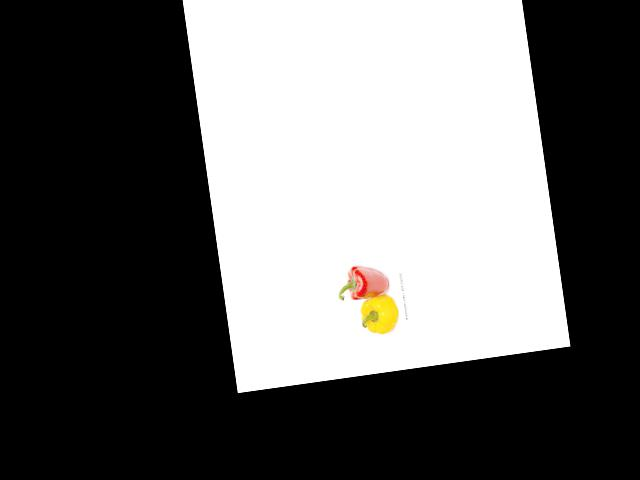bell_pepper: (355, 291, 404, 339)
